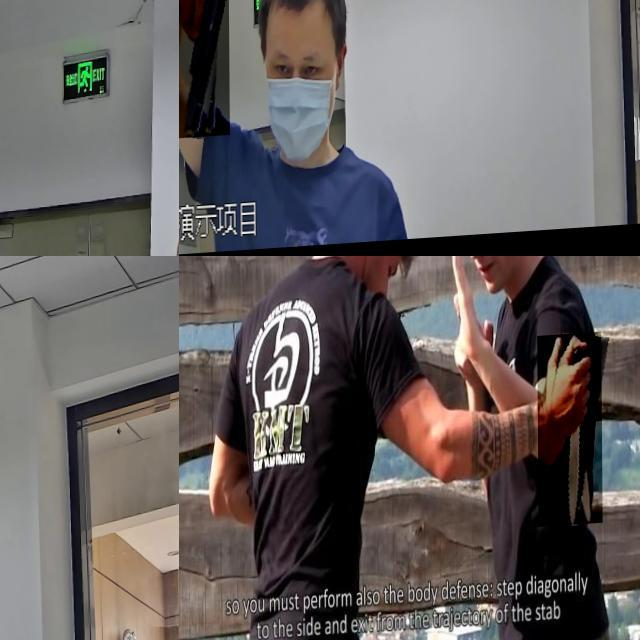-: (537, 338, 602, 534)
gun-knife-thesis - v11 Yolov5 augmented: (179, 0, 229, 140), (0, 451, 33, 609)
